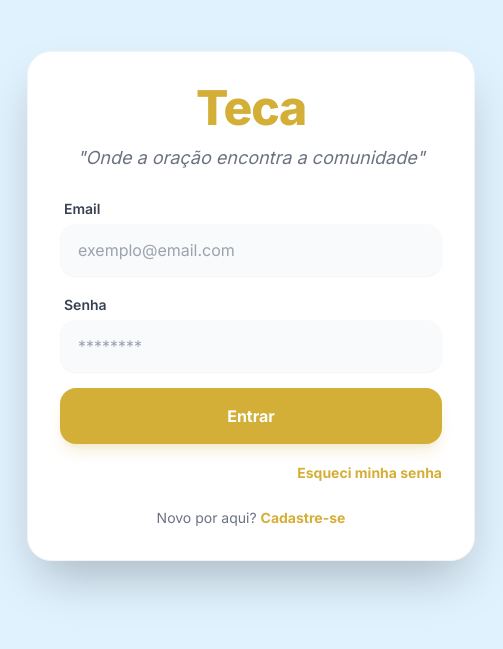
Test: AuthScreen — erro de login visível › mostra a mensagem genérica para um erro inesperado
Type "joana@teca.app.br" into the field with placeholder "exemplo@email.com" at (251, 250), box [60,224,442,276]
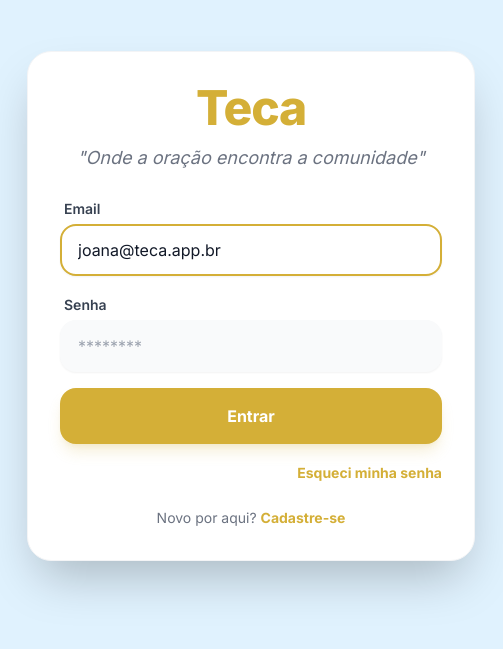
Type "QualquerCoisa" into the password field with placeholder "********" at (251, 346), box [60,320,442,372]
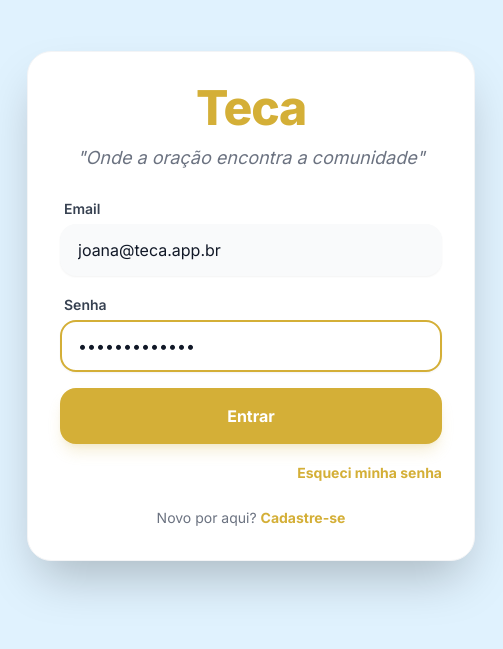
Click the button "Entrar" at (251, 416), box [60,388,442,444]
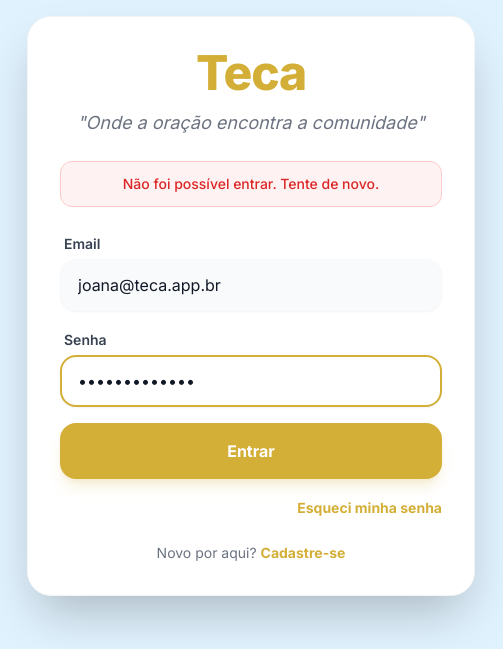
Check: the text "Não foi possível entrar. Tente de novo." is shown, box [60,161,442,207]
